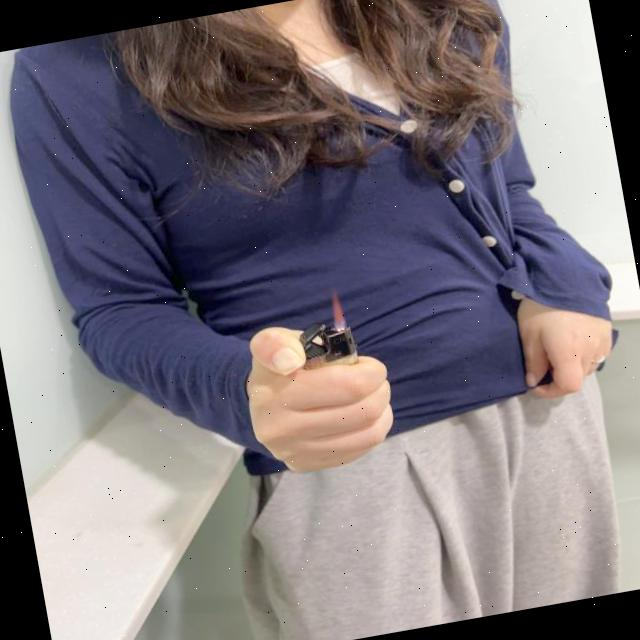fire: (328, 288, 348, 334)
